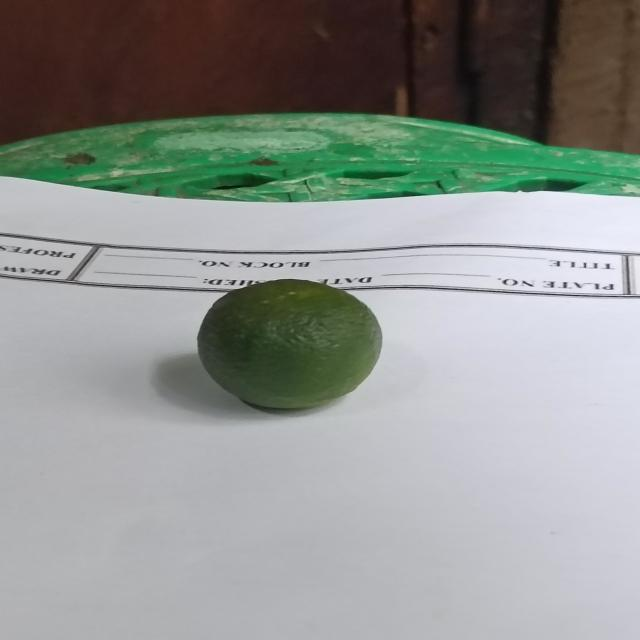heathy: (195, 281, 387, 413)
